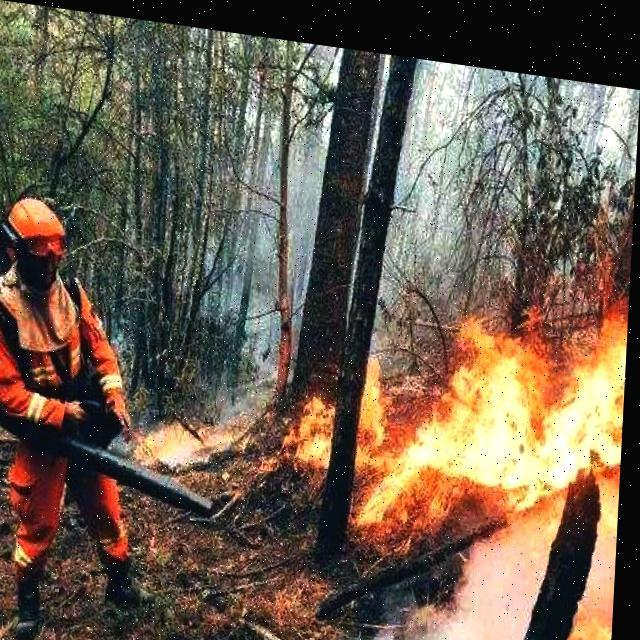Fire: (297, 267, 626, 639), (138, 394, 238, 473)
